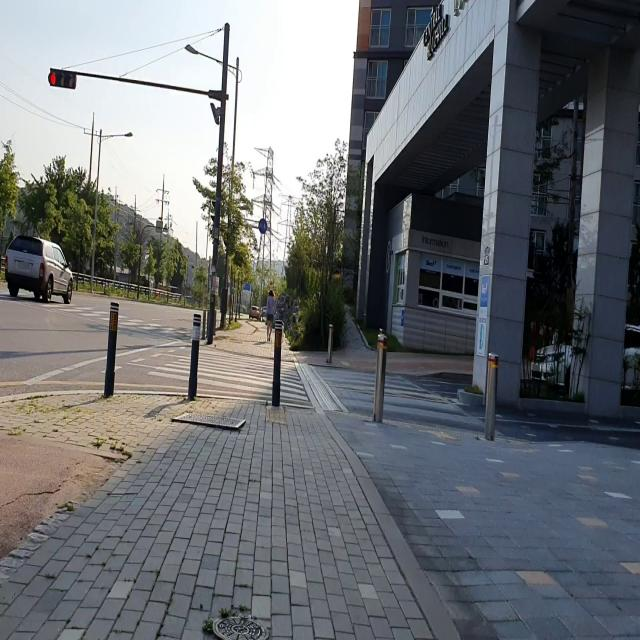횡단보도: (0, 289, 199, 342), (146, 348, 310, 403)
